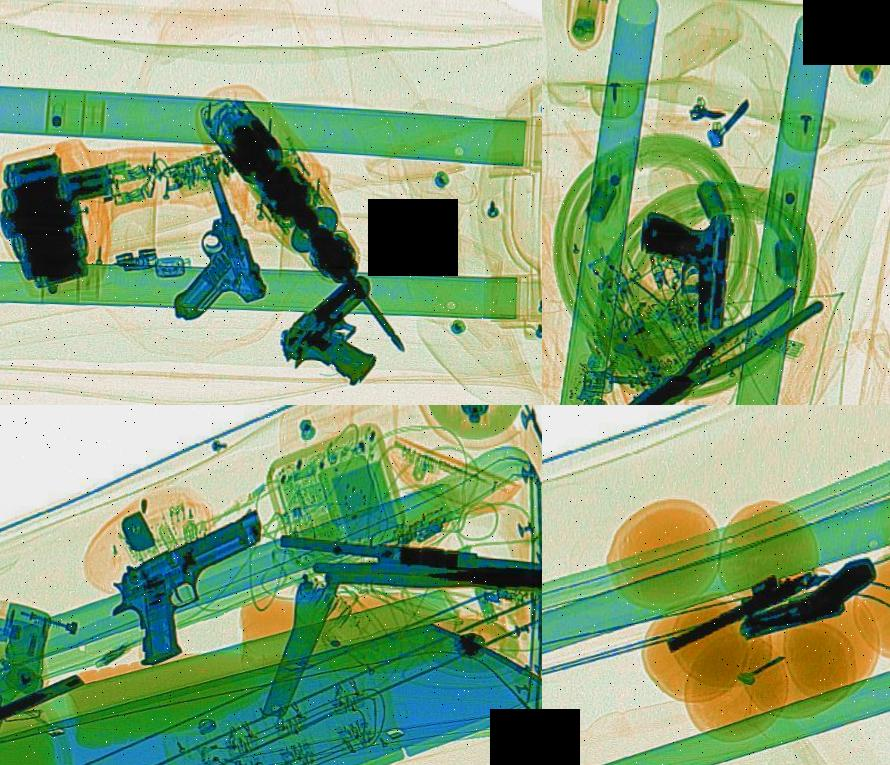Gun: (73, 496, 325, 678), (116, 156, 282, 324), (256, 260, 436, 396), (651, 544, 835, 666), (717, 545, 890, 648), (633, 208, 732, 333)
Pliers: (601, 260, 825, 405)
